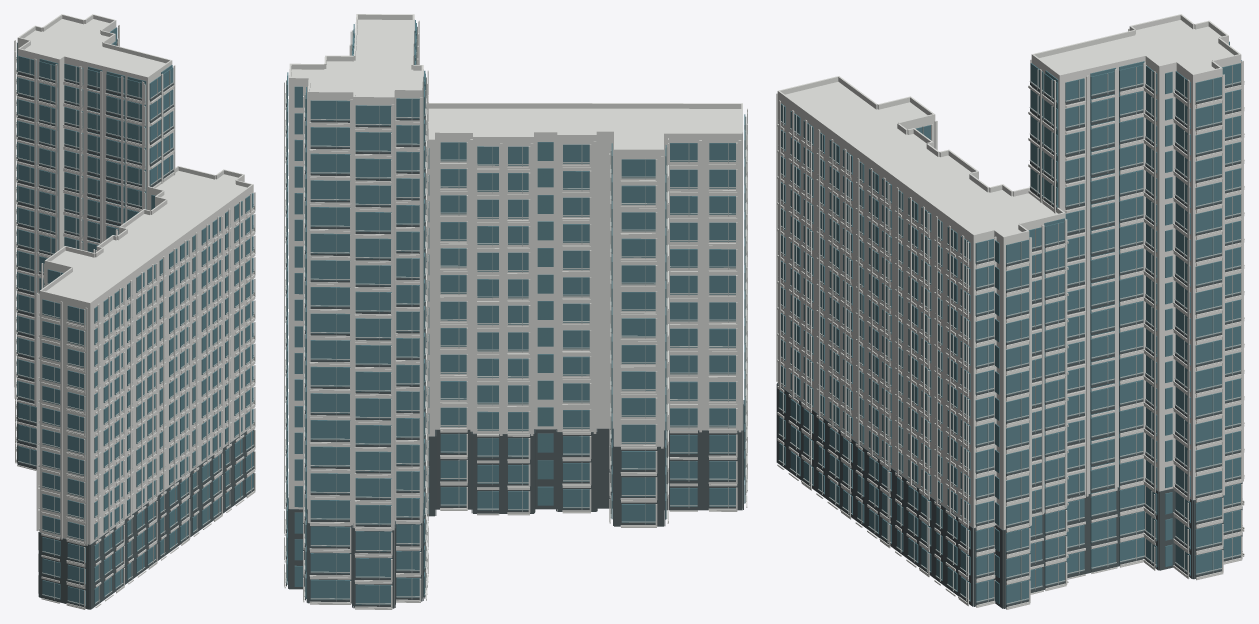
File: bespoke-acro-riverpark-112.glb
3 renders of one model, left to right at view 1: azimuth 30°, elevation 25°; view 2: azimuth 150°, elevation 25°; view 3: azimuth 270°, elevation 25°, orthographic. The views are drawn at different scales.
Visible parts, largest first — view 1: 112_R00_body, 112_R00_glass, 112_R00_dark, 112_R00_frame; view 2: 112_R00_glass, 112_R00_body, 112_R00_dark, 112_R00_frame; view 3: 112_R00_body, 112_R00_glass, 112_R00_dark, 112_R00_frame.
Boxes of the visible parts, <box> form: 112_R00_body: <box>14,14,255,609</box>; 112_R00_glass: <box>17,27,253,605</box>; 112_R00_dark: <box>16,43,254,609</box>; 112_R00_frame: <box>16,31,254,605</box>; 112_R00_glass: <box>286,20,745,604</box>; 112_R00_body: <box>284,14,747,609</box>; 112_R00_dark: <box>286,103,744,608</box>; 112_R00_frame: <box>285,26,746,606</box>; 112_R00_body: <box>776,14,1244,609</box>; 112_R00_glass: <box>779,41,1241,605</box>; 112_R00_dark: <box>776,82,1242,608</box>; 112_R00_frame: <box>778,65,1242,604</box>.
Size of the model in its own units: 47.34 by 68 by 57.3.
